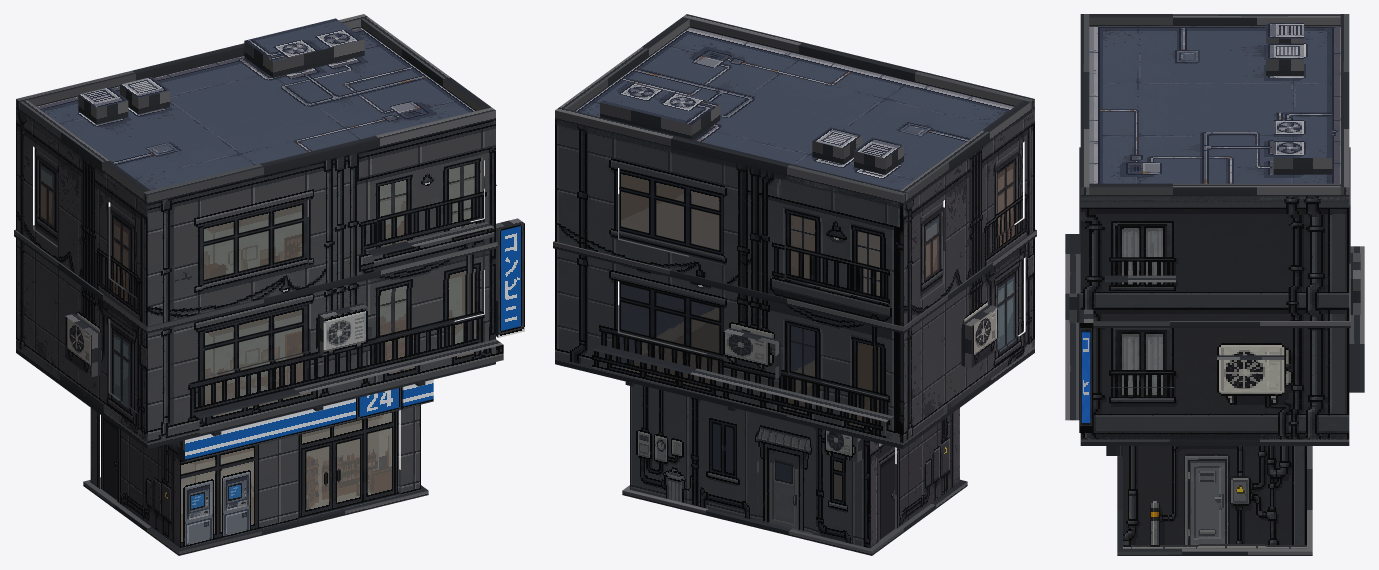
File: convenience_24_v2.glb
3 renders of one model, left to right at view 1: azimuth 30°, elevation 25°; view 2: azimuth 150°, elevation 25°; view 3: azimuth 270°, elevation 25°, orthographic.
Parts seen in each view (by area): view 1: front_Floor3, front_Floor2, RoofDeck, front_Floor1, left_Floor3, left_Floor2, left_Floor1, StoreHorizontalSign, RoofFront, front_ResidentialBalcony152, RoofEquipment_2, ResidentialFloorBelt (+12 smaller); view 2: back_Floor3, RoofDeck, back_Floor2, back_Floor1, left_Floor3, left_Floor2, left_Floor1, back_ResidentialBalcony153, RoofBack, RoofFront, ResidentialFloorBelt, RoofEquipment_2 (+8 smaller); view 3: RoofDeck, right_Floor3, right_Floor2, right_Floor1, RoofEquipment_2, RoofRight, RoofLeft, StoreFoundation, ResidentialFloorBelt, ResidentialCantileverSlab, BladeSign, RoofFront (+9 smaller).
Part boxes in pixels (box(x1,y1,x2,y2)): front_Floor3: box(147, 119, 495, 326); front_Floor2: box(147, 248, 495, 442); RoofDeck: box(17, 27, 495, 206); front_Floor1: box(181, 404, 420, 548); left_Floor3: box(16, 108, 147, 326); left_Floor2: box(16, 238, 147, 442); left_Floor1: box(90, 408, 180, 547); StoreHorizontalSign: box(178, 379, 433, 461); RoofFront: box(143, 107, 495, 206); front_ResidentialBalcony152: box(199, 344, 503, 433); RoofEquipment_2: box(244, 18, 364, 77); ResidentialFloorBelt: box(14, 200, 497, 333); back_Floor3: box(555, 119, 903, 326); RoofDeck: box(555, 27, 1034, 208); back_Floor2: box(555, 248, 903, 442); back_Floor1: box(630, 384, 869, 548); left_Floor3: box(903, 108, 1034, 326); left_Floor2: box(903, 238, 1034, 442); left_Floor1: box(870, 408, 959, 547); back_ResidentialBalcony153: box(592, 350, 886, 439); RoofBack: box(555, 107, 907, 206); RoofFront: box(683, 14, 1034, 112); ResidentialFloorBelt: box(553, 194, 1036, 333); RoofEquipment_2: box(600, 81, 720, 139); RoofDeck: box(1080, 26, 1349, 202); right_Floor3: box(1080, 196, 1349, 320); right_Floor2: box(1080, 328, 1349, 439); right_Floor1: box(1123, 446, 1306, 548); RoofEquipment_2: box(1273, 112, 1332, 174); RoofRight: box(1089, 183, 1340, 198); RoofLeft: box(1089, 14, 1340, 26); StoreFoundation: box(1117, 446, 1312, 555); ResidentialFloorBelt: box(1079, 147, 1350, 327); ResidentialCantileverSlab: box(1080, 387, 1349, 445); BladeSign: box(1079, 309, 1093, 432); RoofFront: box(1080, 14, 1089, 197).
Bounding box in the file's own units: 6.43 × 6.31 × 4.24.
12 materials, 12 textured.
